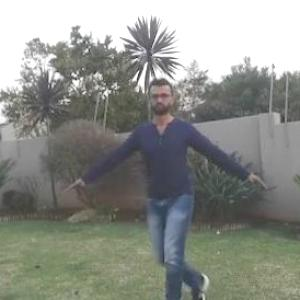land: (107, 94, 243, 261)
